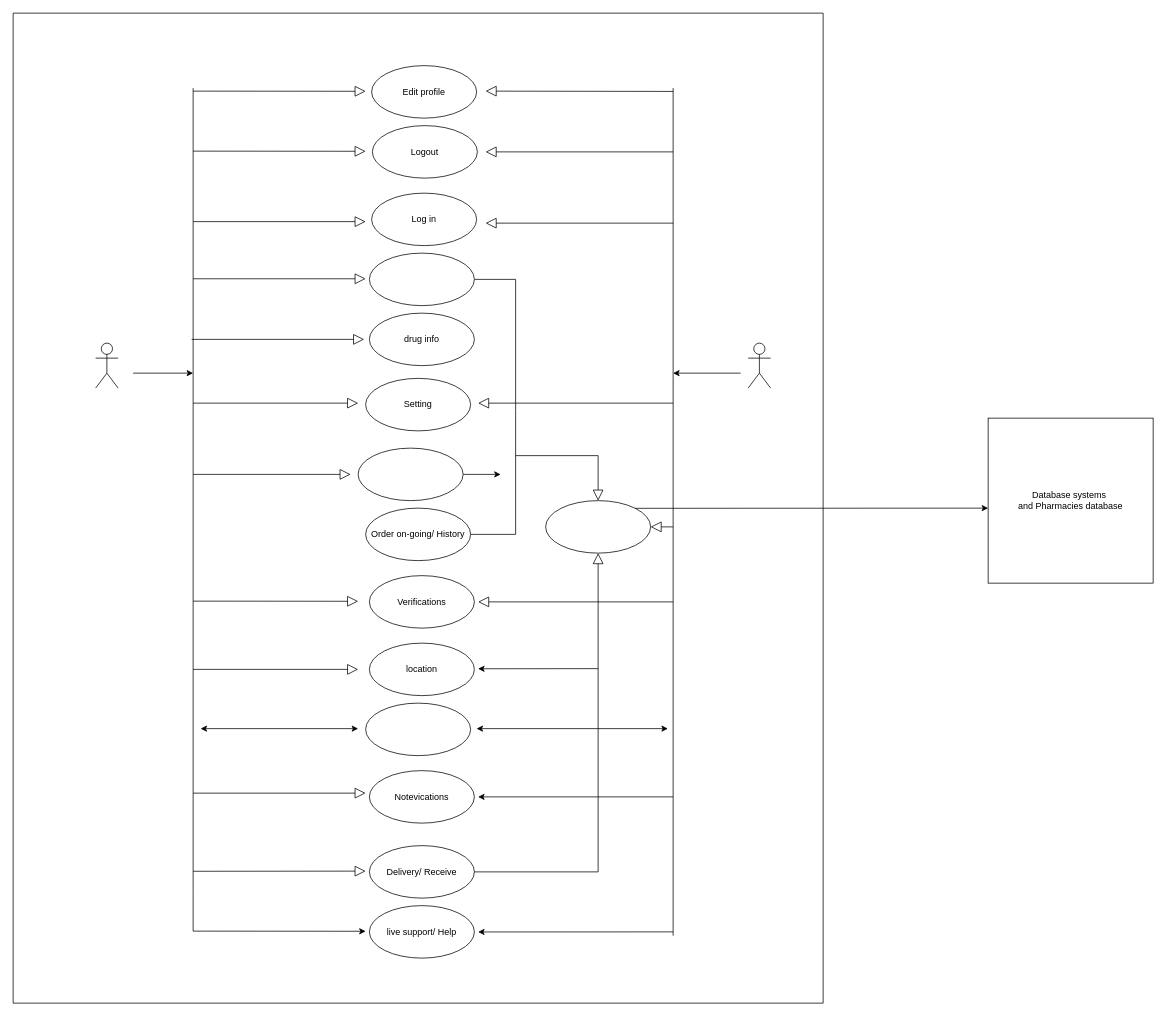
Image size: 1166x1017. Some labels were removed from this diagram. Here are the shapes that lost their labels. From the top down, the centre of each, then its label:
pixel 421 279: add/ delete drug
pixel 106 365: User
pixel 759 365: Employee
pixel 410 474: pyment method
pixel 598 526: Status order
pixel 418 729: Rating
